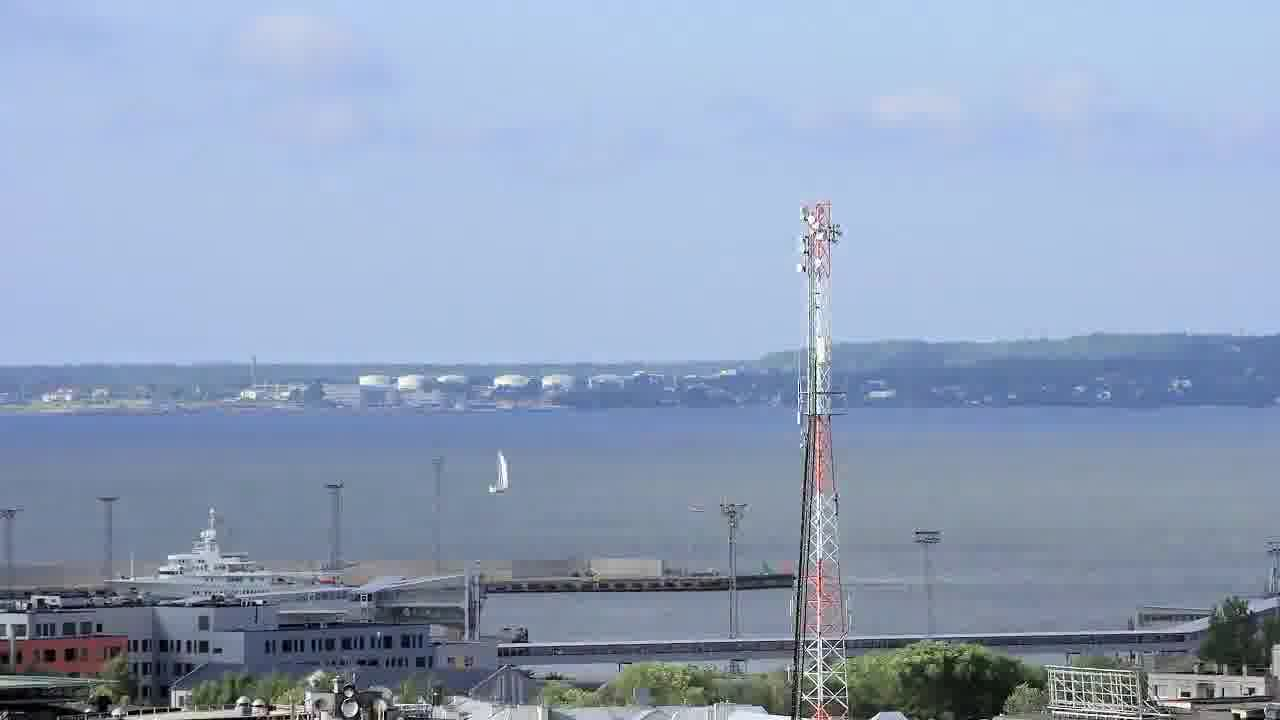type-2: (473, 438, 531, 512)
type-3: (84, 515, 355, 603)
